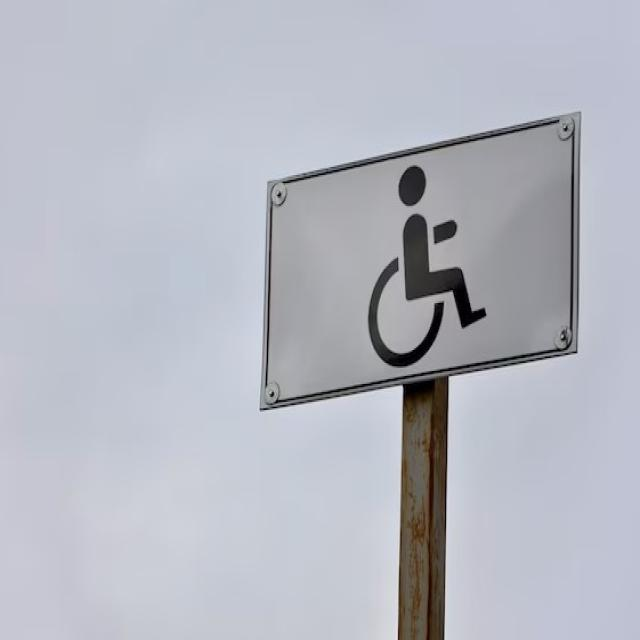symbol_of_access: (359, 155, 496, 372)
